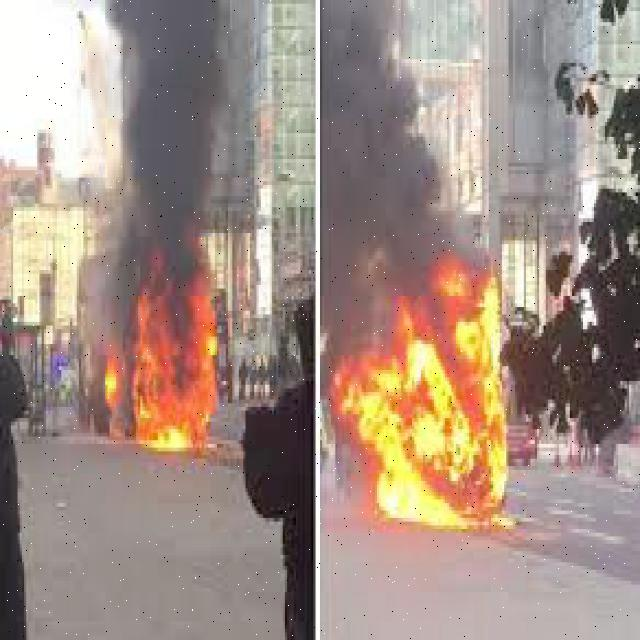fire: (356, 295, 516, 530), (119, 280, 226, 463)
smoke: (322, 1, 467, 258), (108, 11, 230, 246)
